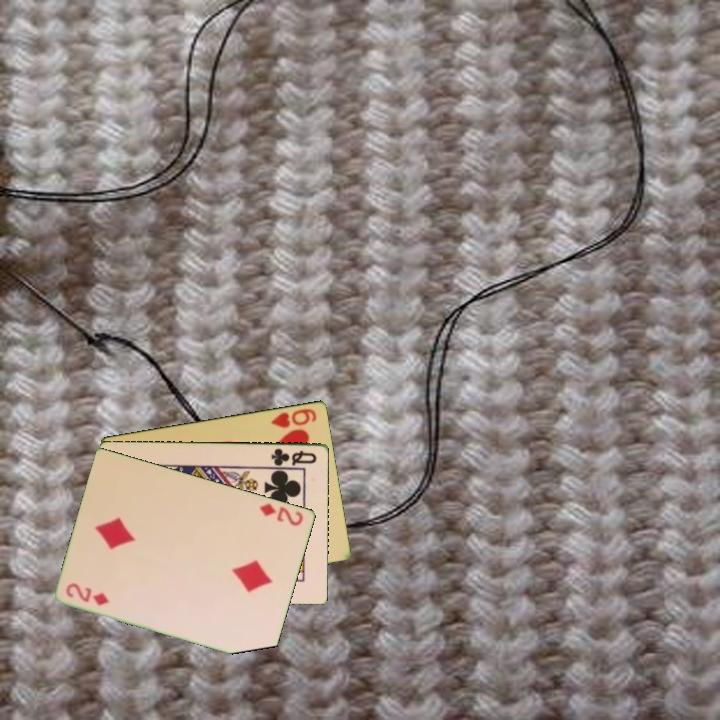2d: (256, 499, 306, 529), (63, 579, 112, 608)
6h: (268, 405, 320, 430)
Qc: (268, 445, 320, 468)
